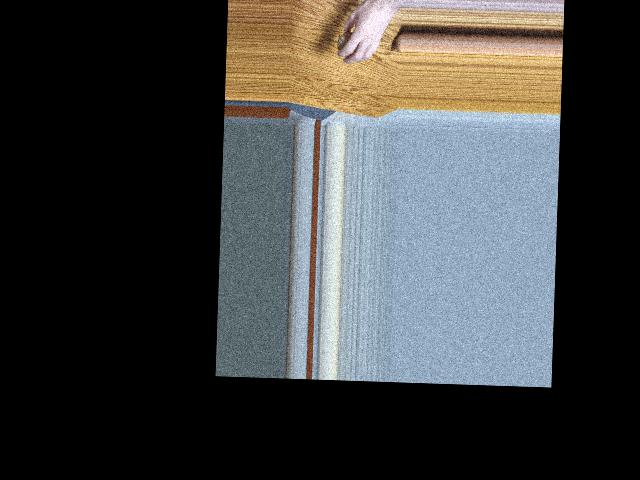onion: (336, 29, 362, 60)
